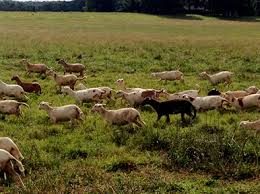sheep: (142, 97, 196, 123), (35, 100, 85, 123), (90, 105, 138, 128), (59, 84, 111, 103), (45, 69, 81, 91), (114, 78, 149, 100), (112, 89, 154, 107), (150, 70, 190, 87), (10, 74, 40, 96), (190, 95, 224, 114), (55, 55, 85, 76), (18, 58, 51, 75), (201, 69, 236, 84), (224, 86, 254, 97)
